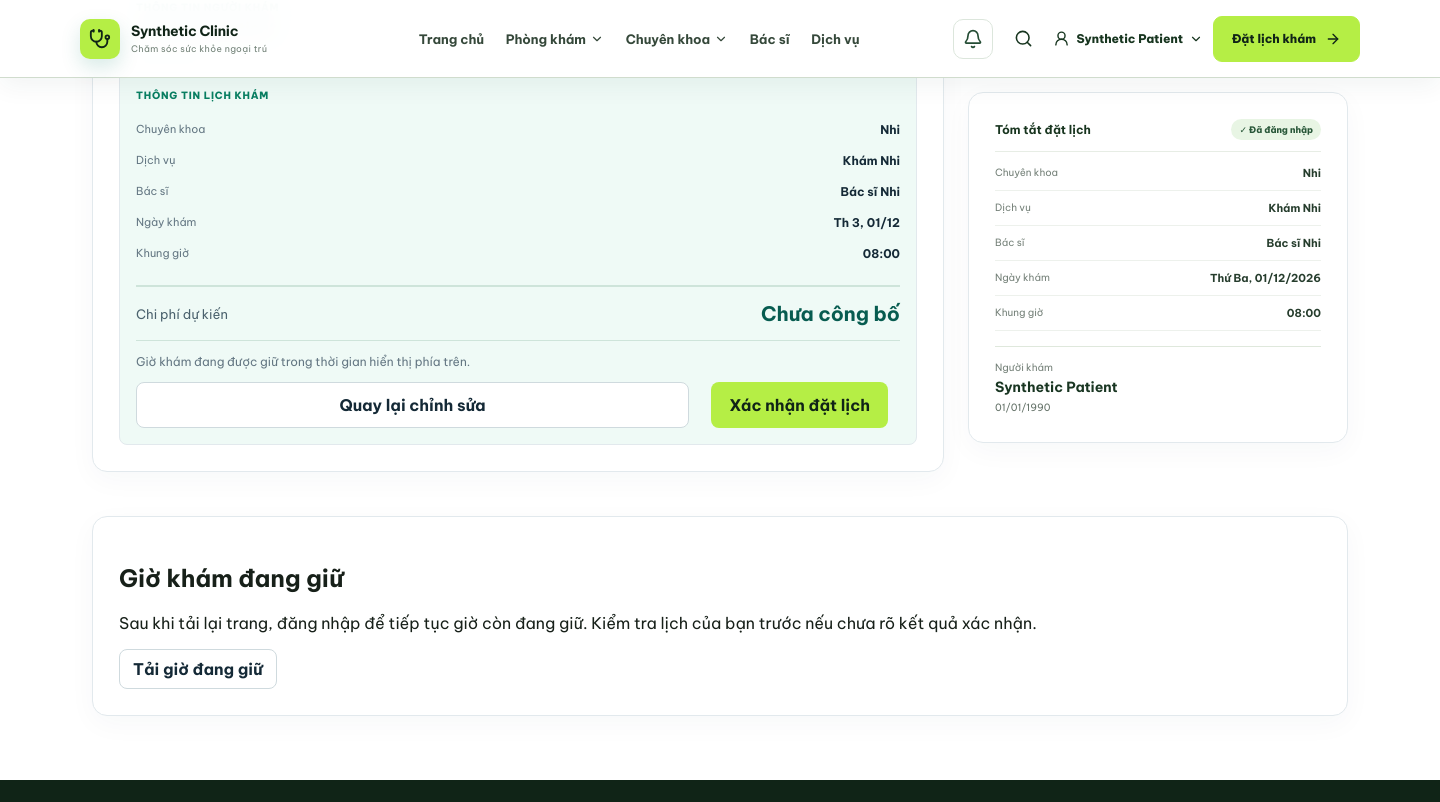
Test: S1 booking workflow › confirms using the owned profile, stable hold and frozen displayed price
(page scrolled)
Click the button "Xác nhận đặt lịch" at [800, 405], box [711,382,888,428]
(page scrolled)
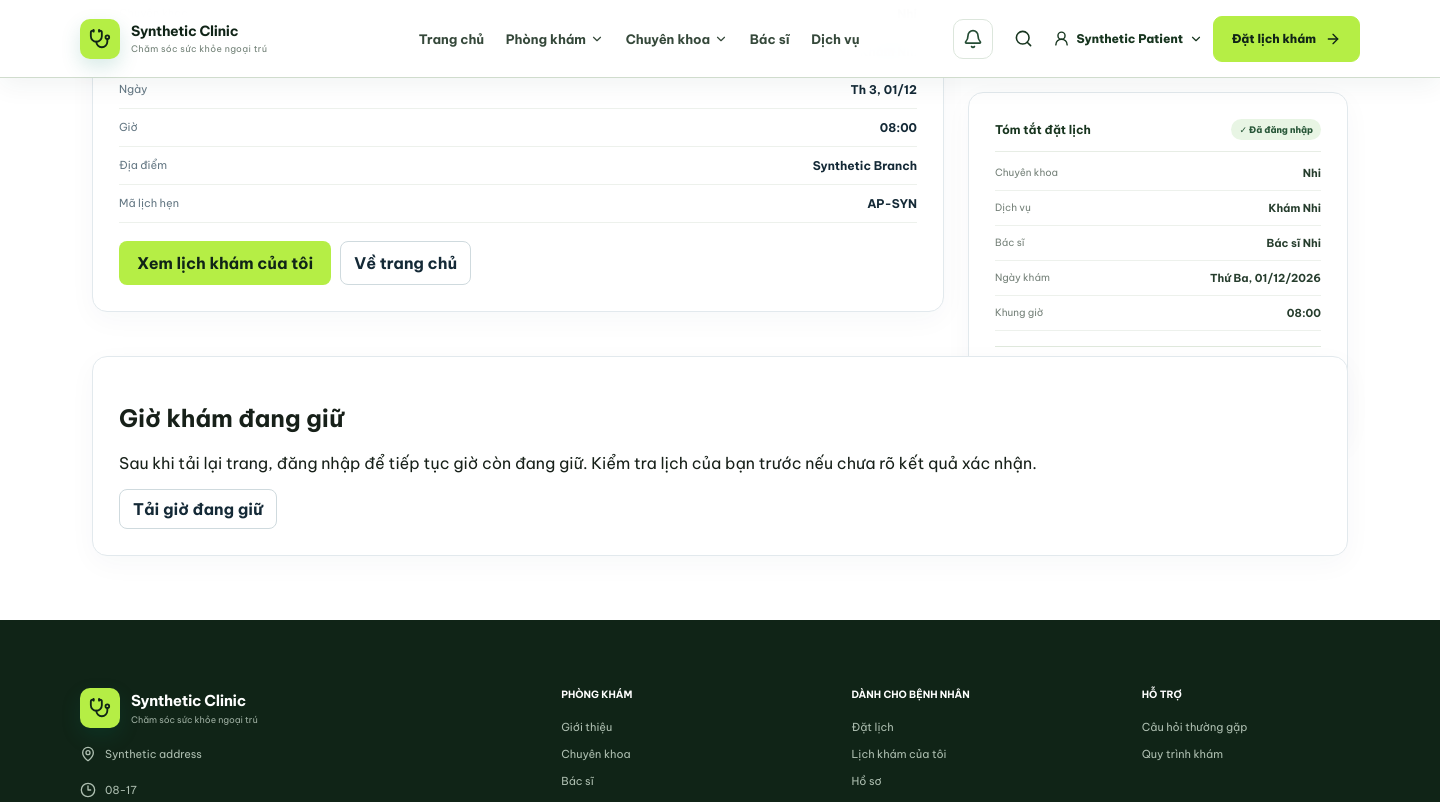
Now the text "AP-SYN" is shown, box [867,196,917,211]
Now the button "Xem lịch khám của tôi" is shown, box [119,241,331,285]
Now the button "Về trang chủ" is shown, box [340,241,471,285]
